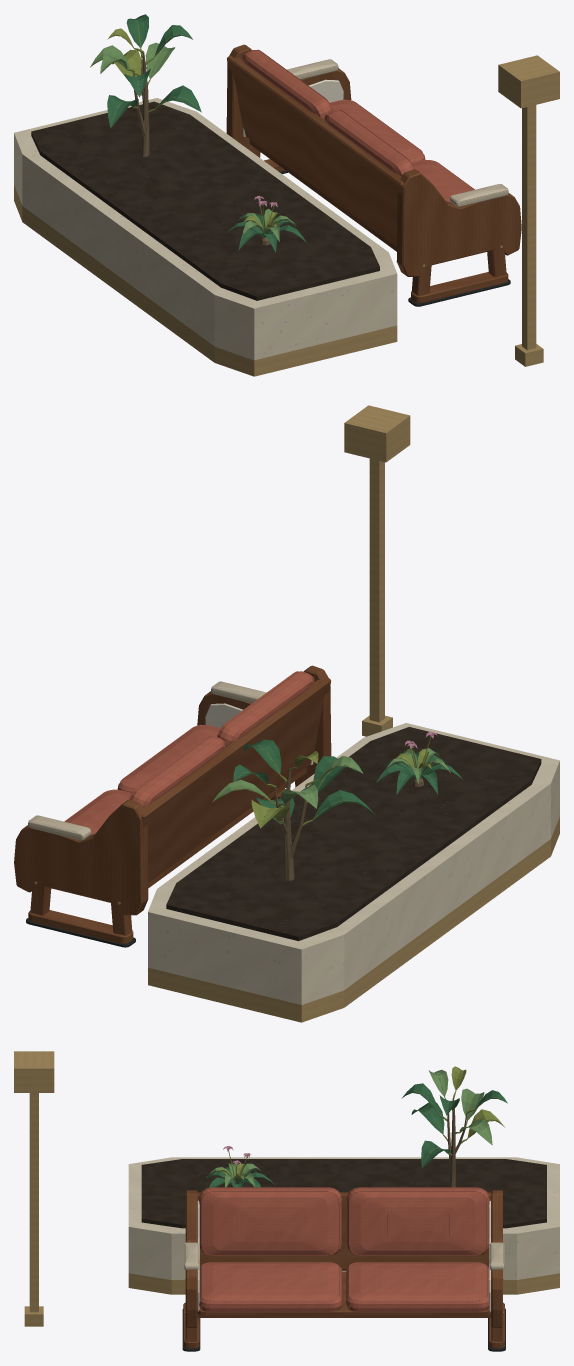
File: G7_Completion_G7C3_D09_Court_1.glb
3 views of the same model, one above another, from view 1: azimuth 30°, elevation 25°; view 2: azimuth 150°, elevation 25°; view 3: azimuth 270°, elevation 25° (orthographic). The views are drawn at different scales.
Parts seen in each view (by area): view 1: G7C3_D09_Court_1_G7C3_soil_solid_furniture, G7C3_D09_Court_1_G7C3_stone_solid_furniture, G7C3_D09_Court_1_ASTRAEA_warm_walnut.003_solid_furniture, G7C3_D09_Court_1_G7C3_metal_solid_frame, G7C3_D09_Court_1_ASTRAEA_clay_weave.003_solid_furniture, G7C3_D09_Court_1_ASTRAEA_botanical_leaf_jade.006_visual_foli, G7C3_D09_Court_1_ASTRAEA_oatmeal_weave.003_solid_furniture, G7C3_D09_Court_1_ASTRAEA_botanical_leaf_sage.006_visual_foli, G7C3_D09_Court_1_ASTRAEA_botanical_leaf_olive.006_visual_fol, G7C3_D09_Court_1_ASTRAEA_botanical_leaf_jade.007_visual_foli, G7C3_D09_Court_1_ASTRAEA_botanical_bark.006_visual_foliage, G7C3_D09_Court_1_ASTRAEA_ivory_enamel.003_solid_furniture (+1 smaller); view 2: G7C3_D09_Court_1_G7C3_soil_solid_furniture, G7C3_D09_Court_1_G7C3_stone_solid_furniture, G7C3_D09_Court_1_ASTRAEA_warm_walnut.003_solid_furniture, G7C3_D09_Court_1_G7C3_metal_solid_frame, G7C3_D09_Court_1_ASTRAEA_clay_weave.003_solid_furniture, G7C3_D09_Court_1_ASTRAEA_botanical_leaf_jade.006_visual_foli, G7C3_D09_Court_1_ASTRAEA_oatmeal_weave.003_solid_furniture, G7C3_D09_Court_1_ASTRAEA_botanical_leaf_sage.006_visual_foli, G7C3_D09_Court_1_ASTRAEA_botanical_leaf_olive.006_visual_fol, G7C3_D09_Court_1_ASTRAEA_botanical_bark.006_visual_foliage, G7C3_D09_Court_1_ASTRAEA_botanical_leaf_jade.007_visual_foli; view 3: G7C3_D09_Court_1_ASTRAEA_clay_weave.003_solid_furniture, G7C3_D09_Court_1_G7C3_soil_solid_furniture, G7C3_D09_Court_1_G7C3_stone_solid_furniture, G7C3_D09_Court_1_ASTRAEA_warm_walnut.003_solid_furniture, G7C3_D09_Court_1_G7C3_metal_solid_frame, G7C3_D09_Court_1_ASTRAEA_botanical_leaf_jade.006_visual_foli, G7C3_D09_Court_1_ASTRAEA_botanical_leaf_sage.006_visual_foli, G7C3_D09_Court_1_ASTRAEA_botanical_leaf_olive.006_visual_fol, G7C3_D09_Court_1_ASTRAEA_oatmeal_weave.003_solid_furniture, G7C3_D09_Court_1_ASTRAEA_botanical_bark.006_visual_foliage, G7C3_D09_Court_1_ASTRAEA_ivory_enamel.003_solid_furniture, G7C3_D09_Court_1_ASTRAEA_botanical_leaf_sage.007_visual_foli (+1 smaller).
Boxes of the visible parts, x1=… form: G7C3_D09_Court_1_G7C3_soil_solid_furniture: x1=31, y1=101, x2=379, y2=300; G7C3_D09_Court_1_G7C3_stone_solid_furniture: x1=14, y1=98, x2=397, y2=360; G7C3_D09_Court_1_ASTRAEA_warm_walnut.003_solid_furniture: x1=226, y1=44, x2=521, y2=303; G7C3_D09_Court_1_G7C3_metal_solid_frame: x1=14, y1=55, x2=559, y2=376; G7C3_D09_Court_1_ASTRAEA_clay_weave.003_solid_furniture: x1=242, y1=49, x2=474, y2=202; G7C3_D09_Court_1_ASTRAEA_botanical_leaf_jade.006_visual_foli: x1=107, y1=14, x2=201, y2=127; G7C3_D09_Court_1_ASTRAEA_oatmeal_weave.003_solid_furniture: x1=287, y1=59, x2=508, y2=206; G7C3_D09_Court_1_ASTRAEA_botanical_leaf_sage.006_visual_foli: x1=90, y1=42, x2=175, y2=78; G7C3_D09_Court_1_ASTRAEA_botanical_leaf_olive.006_visual_fol: x1=92, y1=18, x2=197, y2=123; G7C3_D09_Court_1_ASTRAEA_botanical_leaf_jade.007_visual_foli: x1=225, y1=213, x2=306, y2=252; G7C3_D09_Court_1_ASTRAEA_botanical_bark.006_visual_foliage: x1=133, y1=52, x2=149, y2=156; G7C3_D09_Court_1_ASTRAEA_ivory_enamel.003_solid_furniture: x1=243, y1=79, x2=343, y2=136; G7C3_D09_Court_1_G7C3_soil_solid_furniture: x1=166, y1=727, x2=541, y2=941; G7C3_D09_Court_1_G7C3_stone_solid_furniture: x1=148, y1=723, x2=559, y2=1004; G7C3_D09_Court_1_ASTRAEA_warm_walnut.003_solid_furniture: x1=14, y1=665, x2=331, y2=943; G7C3_D09_Court_1_G7C3_metal_solid_frame: x1=148, y1=405, x2=559, y2=1022; G7C3_D09_Court_1_ASTRAEA_clay_weave.003_solid_furniture: x1=64, y1=671, x2=314, y2=835; G7C3_D09_Court_1_ASTRAEA_botanical_leaf_jade.006_visual_foli: x1=233, y1=739, x2=374, y2=823; G7C3_D09_Court_1_ASTRAEA_oatmeal_weave.003_solid_furniture: x1=28, y1=681, x2=266, y2=840; G7C3_D09_Court_1_ASTRAEA_botanical_leaf_sage.006_visual_foli: x1=212, y1=756, x2=363, y2=808; G7C3_D09_Court_1_ASTRAEA_botanical_leaf_olive.006_visual_fol: x1=215, y1=745, x2=360, y2=828; G7C3_D09_Court_1_ASTRAEA_botanical_bark.006_visual_foliage: x1=274, y1=770, x2=306, y2=880; G7C3_D09_Court_1_ASTRAEA_botanical_leaf_jade.007_visual_foli: x1=376, y1=751, x2=462, y2=794; G7C3_D09_Court_1_ASTRAEA_clay_weave.003_solid_furniture: x1=198, y1=1187, x2=489, y2=1312; G7C3_D09_Court_1_G7C3_soil_solid_furniture: x1=141, y1=1159, x2=546, y2=1228; G7C3_D09_Court_1_G7C3_stone_solid_furniture: x1=128, y1=1157, x2=559, y2=1279; G7C3_D09_Court_1_ASTRAEA_warm_walnut.003_solid_furniture: x1=183, y1=1190, x2=504, y2=1348; G7C3_D09_Court_1_G7C3_metal_solid_frame: x1=14, y1=1051, x2=559, y2=1326; G7C3_D09_Court_1_ASTRAEA_botanical_leaf_jade.006_visual_foli: x1=401, y1=1083, x2=507, y2=1167; G7C3_D09_Court_1_ASTRAEA_botanical_leaf_sage.006_visual_foli: x1=428, y1=1069, x2=492, y2=1145; G7C3_D09_Court_1_ASTRAEA_botanical_leaf_olive.006_visual_fol: x1=414, y1=1066, x2=504, y2=1163; G7C3_D09_Court_1_ASTRAEA_oatmeal_weave.003_solid_furniture: x1=184, y1=1242, x2=504, y2=1269; G7C3_D09_Court_1_ASTRAEA_botanical_bark.006_visual_foliage: x1=447, y1=1099, x2=466, y2=1187; G7C3_D09_Court_1_ASTRAEA_ivory_enamel.003_solid_furniture: x1=197, y1=1200, x2=490, y2=1311; G7C3_D09_Court_1_ASTRAEA_botanical_leaf_sage.007_visual_foli: x1=207, y1=1162, x2=261, y2=1187.
Bounding box in the file's own units: 2.43 × 2.15 × 4.05.
19 materials, 18 textured.
